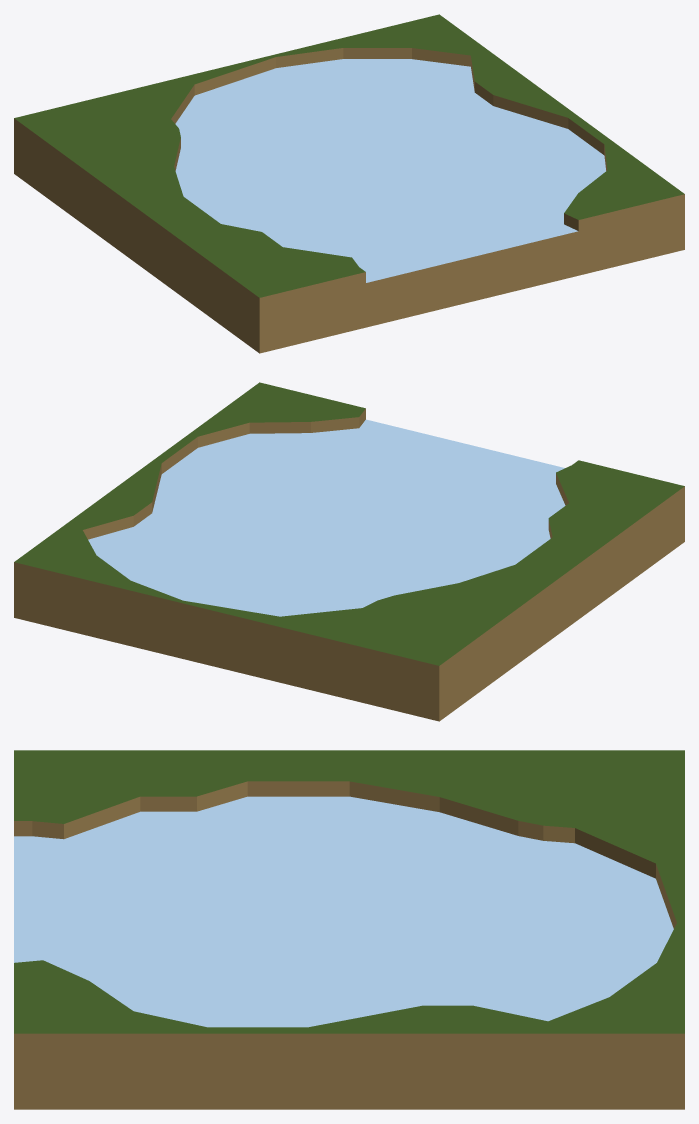
The model's file is Terrain_Tile_Grass_Dirt_River_End_01.fbx.
3 renders of one model, top to bottom at view 1: azimuth 30°, elevation 25°; view 2: azimuth 150°, elevation 25°; view 3: azimuth 270°, elevation 25°, orthographic. The views are drawn at different scales.
Parts seen in each view (by area): view 1: Model; view 2: Model; view 3: Model.
Boxes of the visible parts, x1,y1,x2,y2 form: Model: (14,14,684,353); Model: (14,382,684,721); Model: (14,750,684,1109).
Bounding box in the file's own units: 2000 × 250 × 2000.
